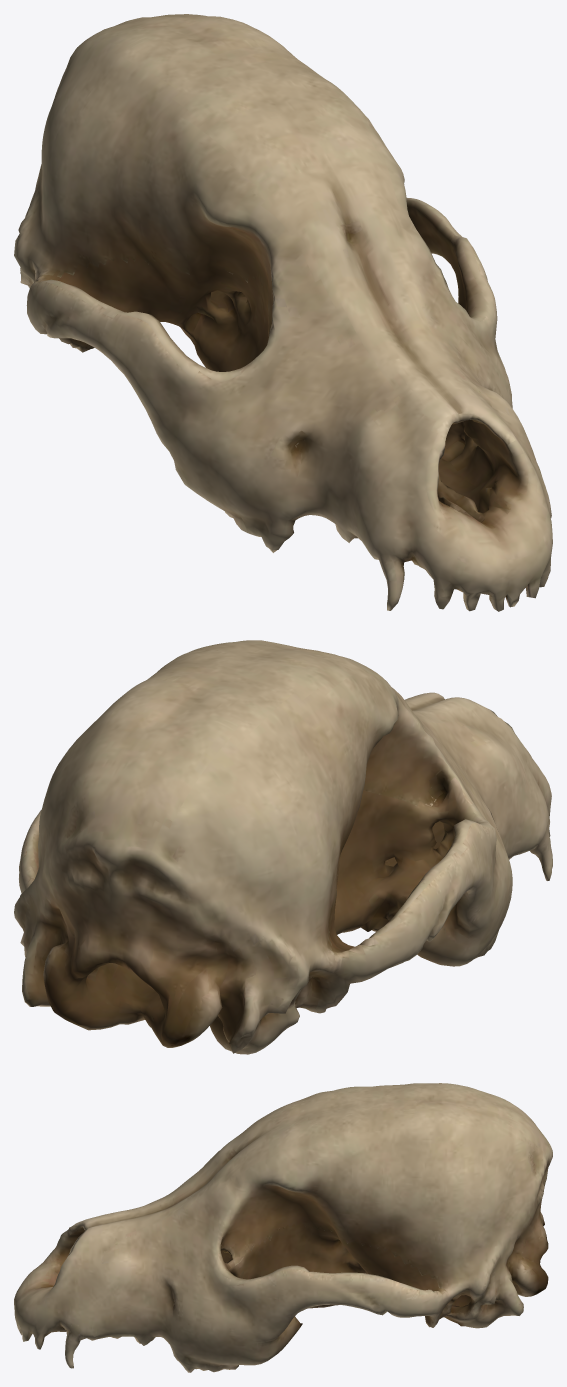
File: Skull.glb
3 renders of one model, top to bottom at view 1: azimuth 30°, elevation 25°; view 2: azimuth 150°, elevation 25°; view 3: azimuth 270°, elevation 25°, orthographic. The views are drawn at different scales.
Visible parts, largest first — view 1: Skull1:Group10625; view 2: Skull1:Group10625; view 3: Skull1:Group10625.
Part boxes in pixels (left/top/right/bottom): Skull1:Group10625: left=14, top=14, right=552, bottom=611; Skull1:Group10625: left=14, top=640, right=552, bottom=1054; Skull1:Group10625: left=14, top=1083, right=552, bottom=1372.
Size of the model in its own units: 88.81 by 78.87 by 158.
1 material, 1 textured.
